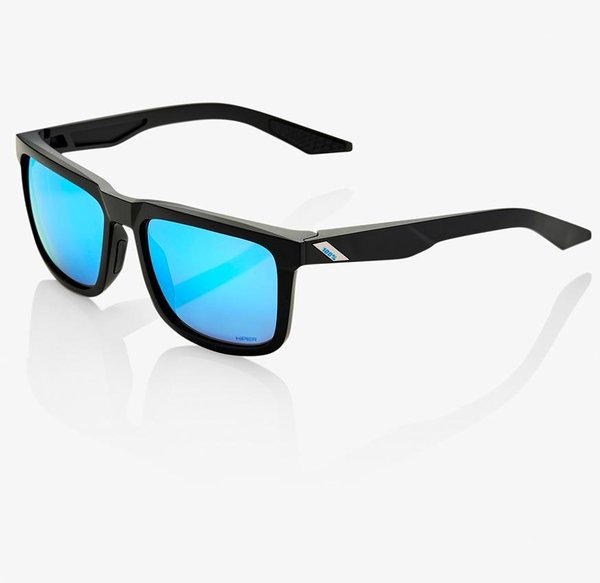lente: (13, 100, 595, 359)
